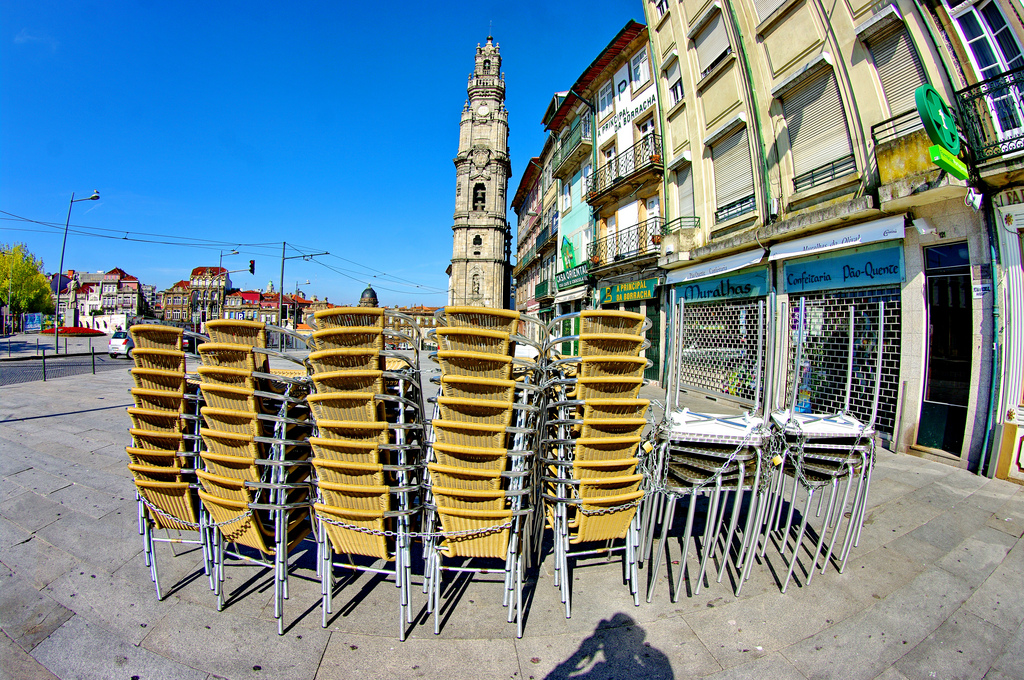clerigos: (440, 15, 516, 309)
